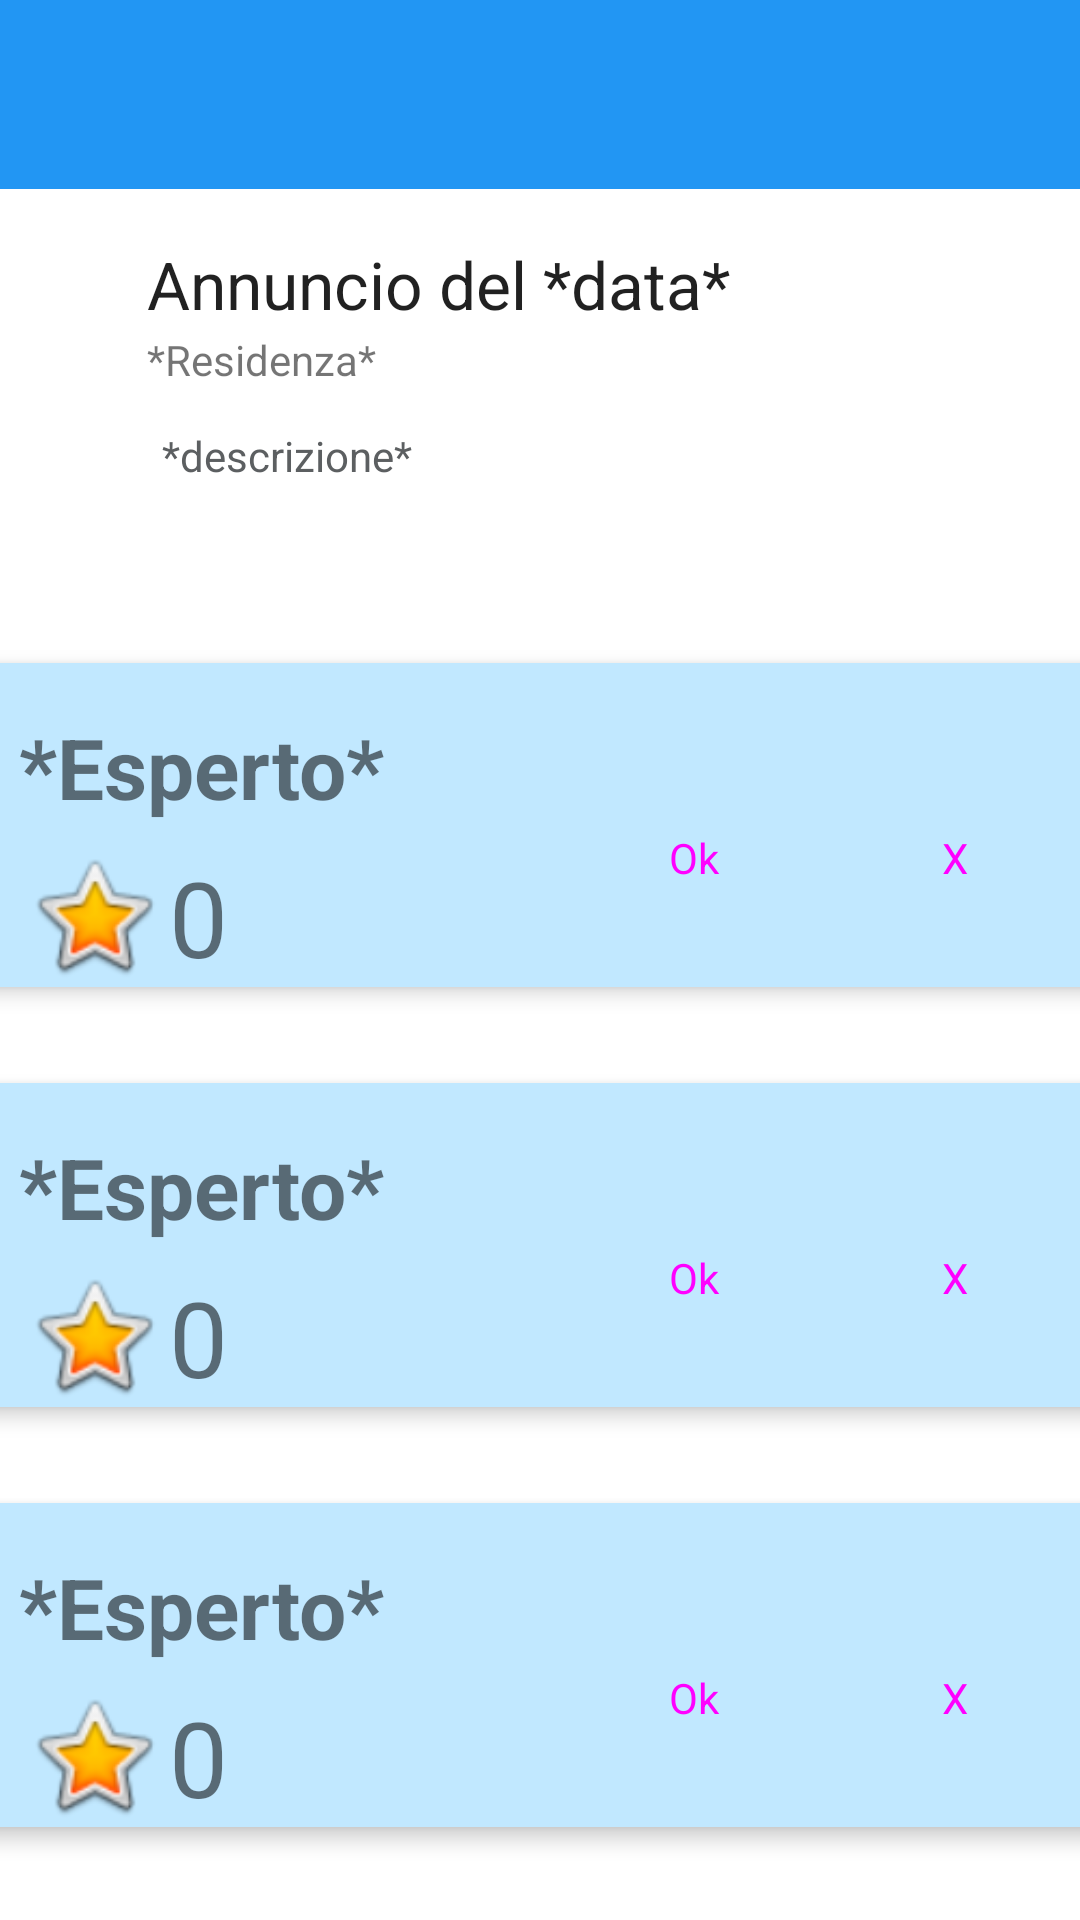

Icons on this 1080w x 1920h Android screen, each with the point to tap as [x,y]:
star on: [95,917], [95,1337], [95,1757]
